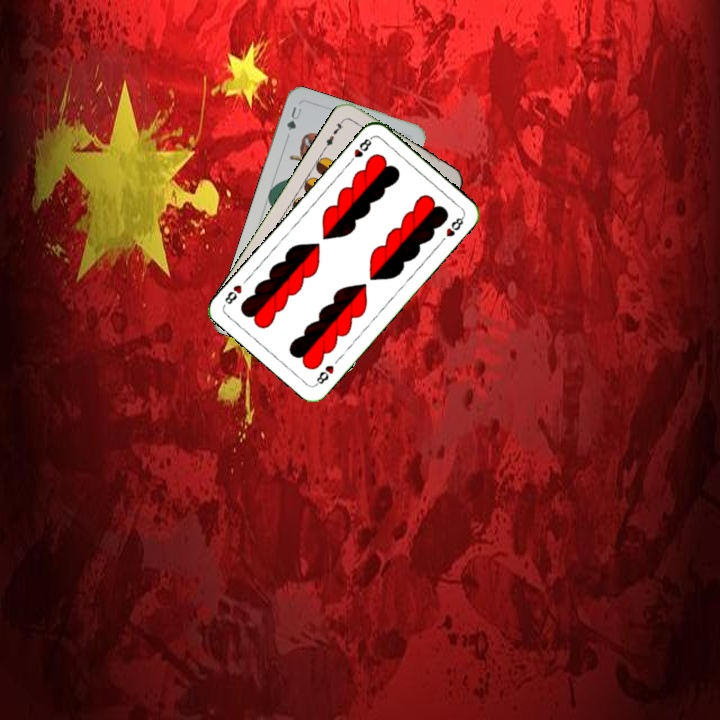E7: (320, 115, 347, 152)
GU: (283, 103, 304, 134)
H8: (344, 133, 375, 167), (311, 361, 337, 388)
